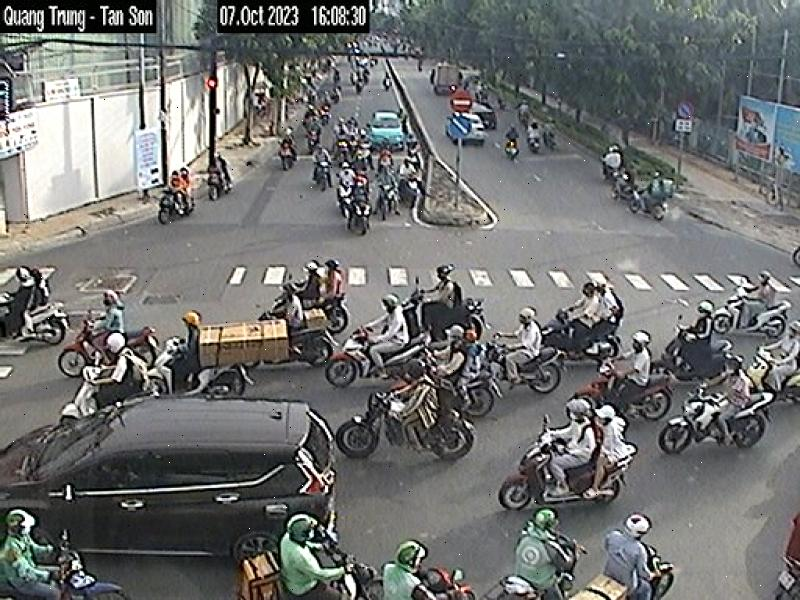car: (0, 396, 334, 565)
motorcycle: (336, 392, 473, 464), (499, 435, 627, 509), (658, 389, 773, 452), (324, 326, 431, 384), (608, 325, 655, 388)
